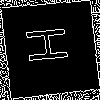H: (24, 24, 78, 65)
